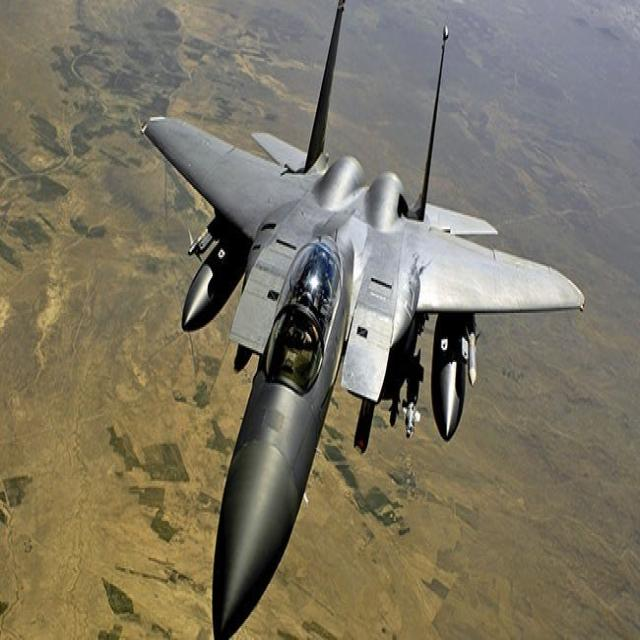F15: (120, 0, 596, 640)
